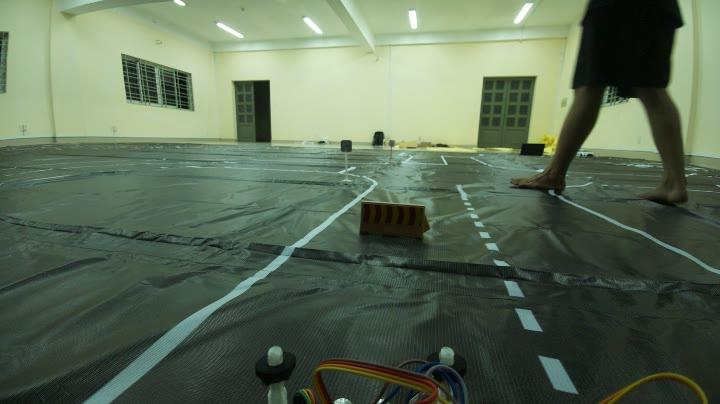roadblock: (350, 194, 436, 254)
